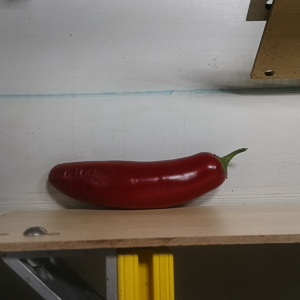Cut Point: (200, 149, 236, 187)
